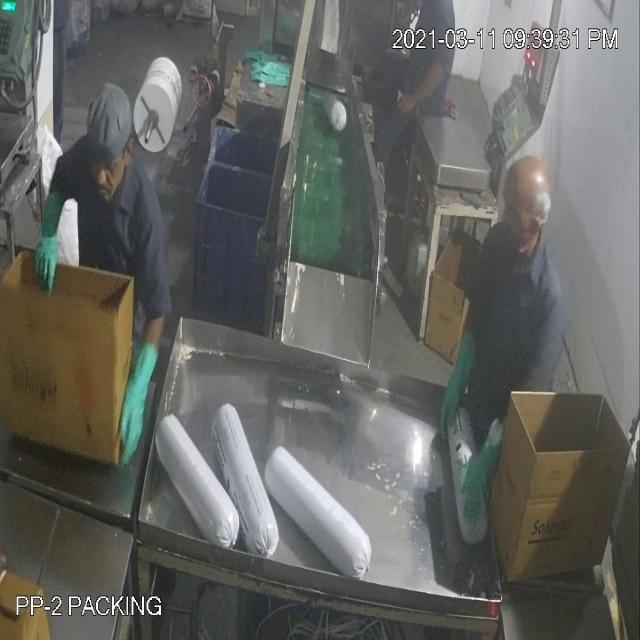Gloves: (40, 55, 460, 403)
